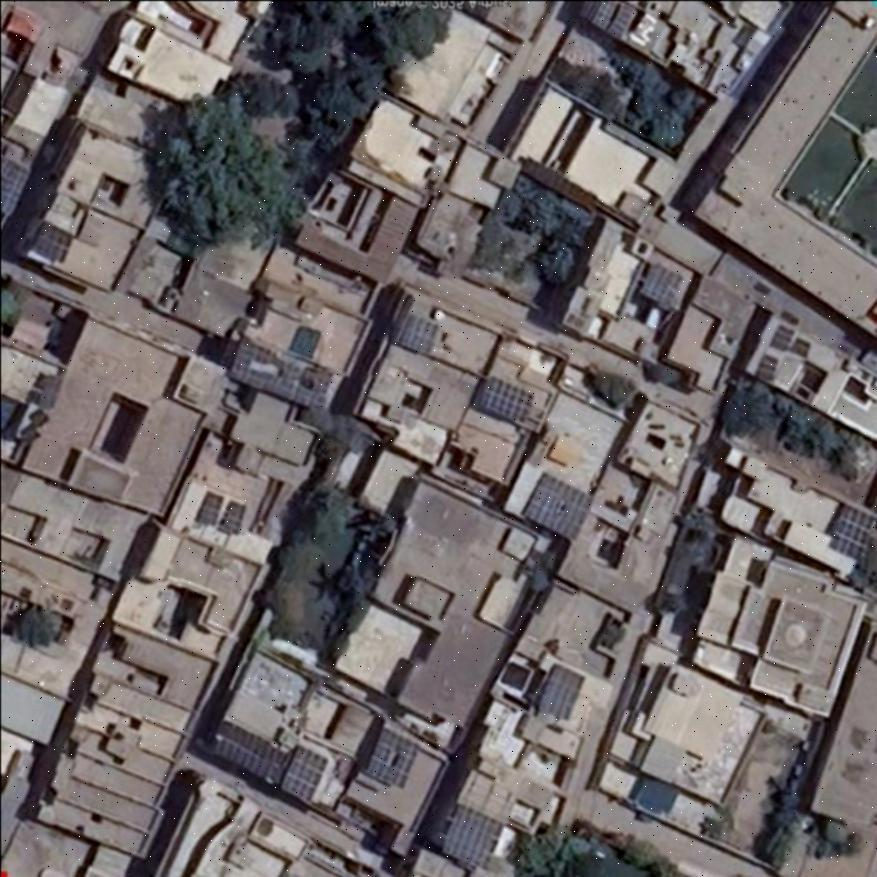Solarpanel: (525, 470, 595, 540), (205, 717, 276, 777), (443, 805, 501, 872), (366, 730, 416, 786), (827, 505, 875, 560), (478, 377, 534, 422), (283, 745, 325, 802), (391, 314, 437, 355), (0, 156, 27, 215), (590, 1, 636, 35), (194, 492, 221, 523), (219, 502, 244, 534)
